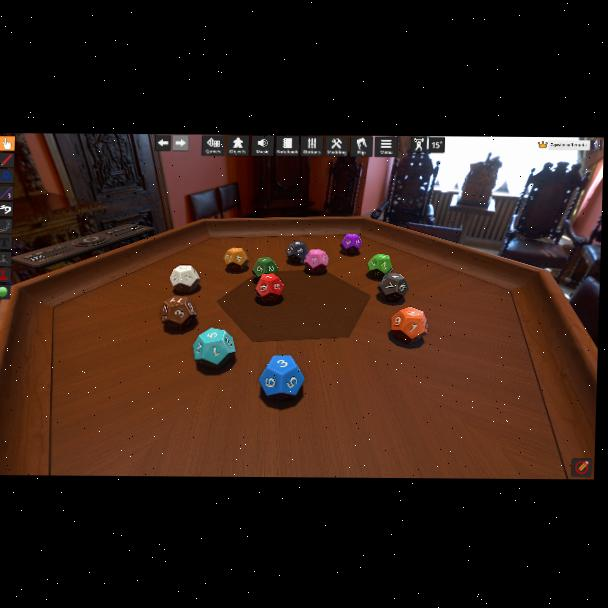d12: (259, 355, 305, 400), (192, 328, 231, 365), (394, 307, 428, 343), (161, 297, 198, 330), (254, 273, 285, 303), (170, 264, 202, 293), (377, 273, 406, 303), (252, 257, 278, 281), (367, 253, 391, 278), (304, 249, 329, 273), (224, 247, 247, 271), (285, 241, 308, 263), (340, 233, 360, 254)
